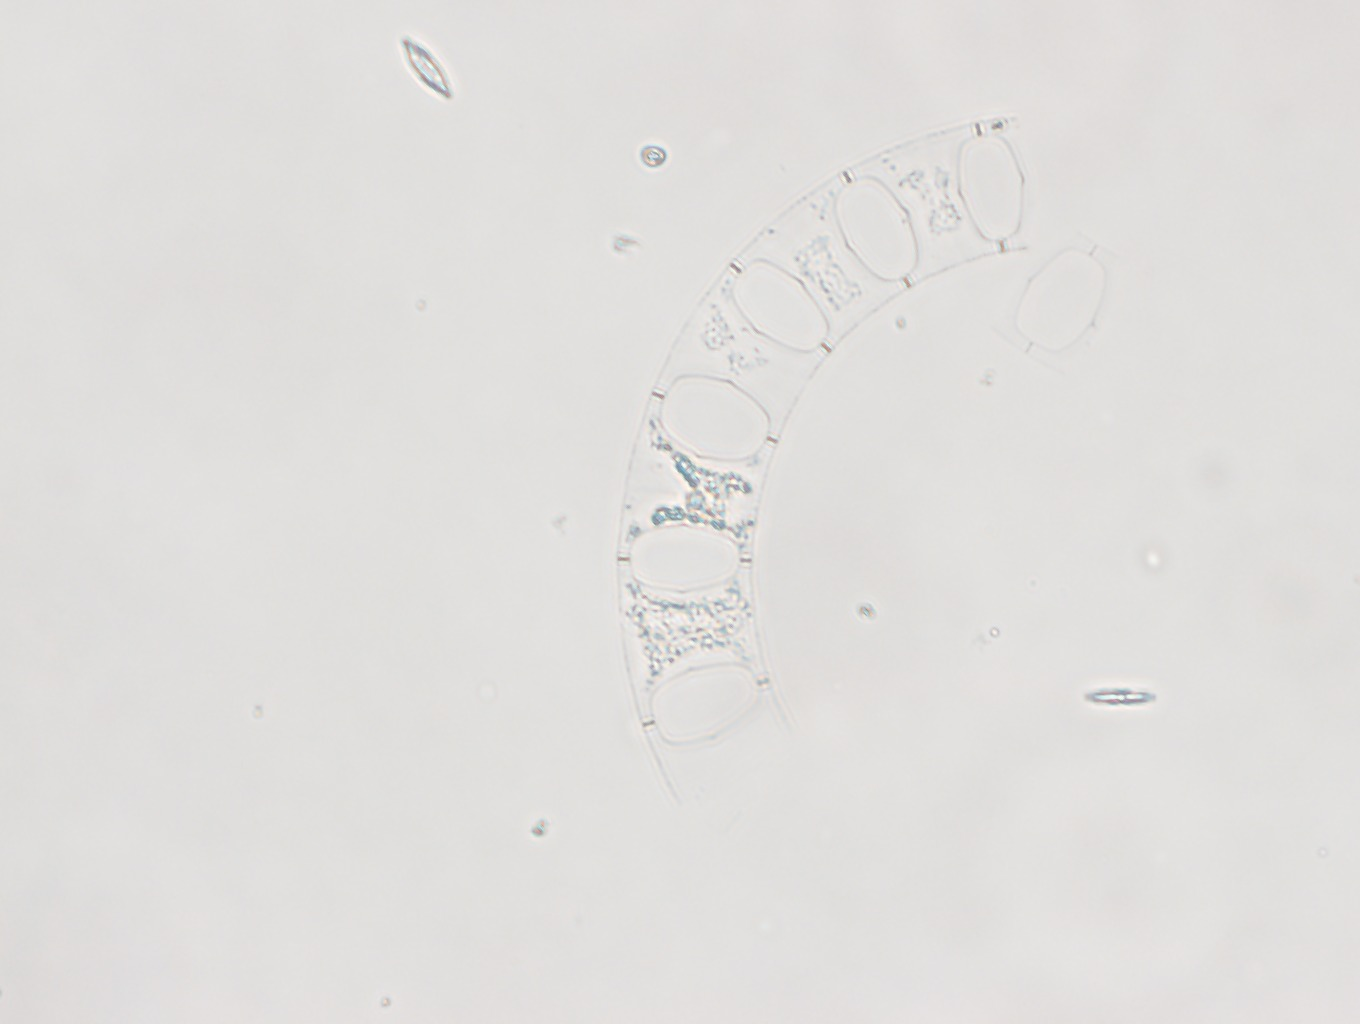eucampia: (619, 114, 1034, 803)
